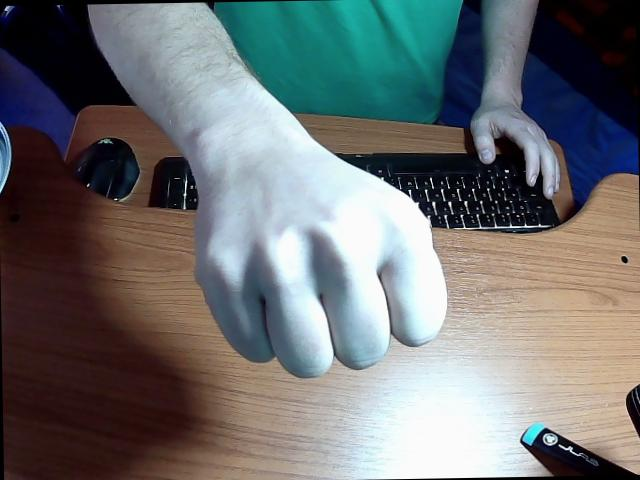rock: (190, 108, 446, 376)
